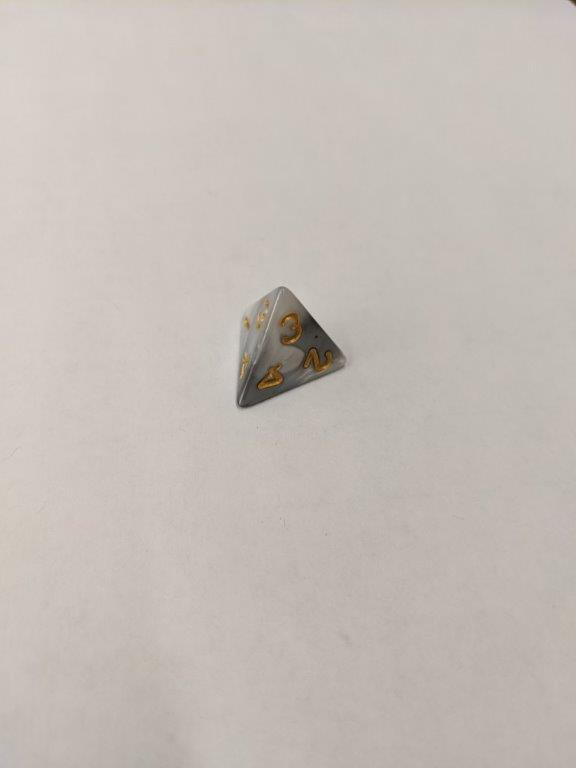d4-3: (231, 286, 349, 411)
